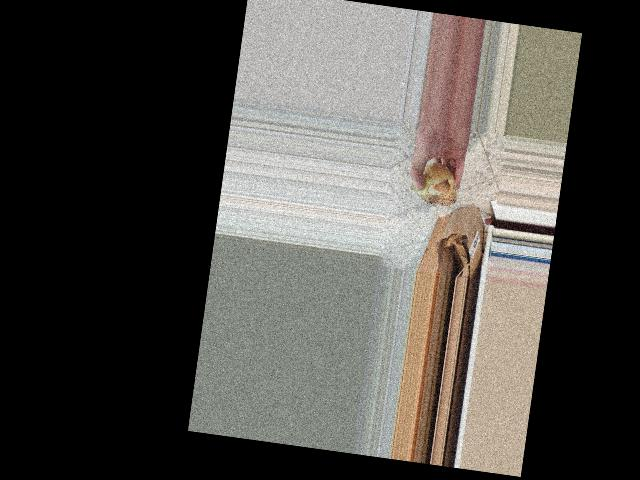onion: (410, 158, 462, 209)
